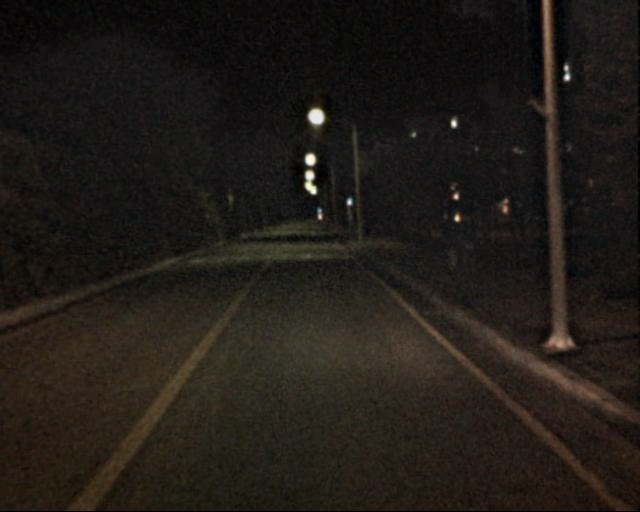person: (456, 212, 481, 272), (439, 215, 463, 274)
